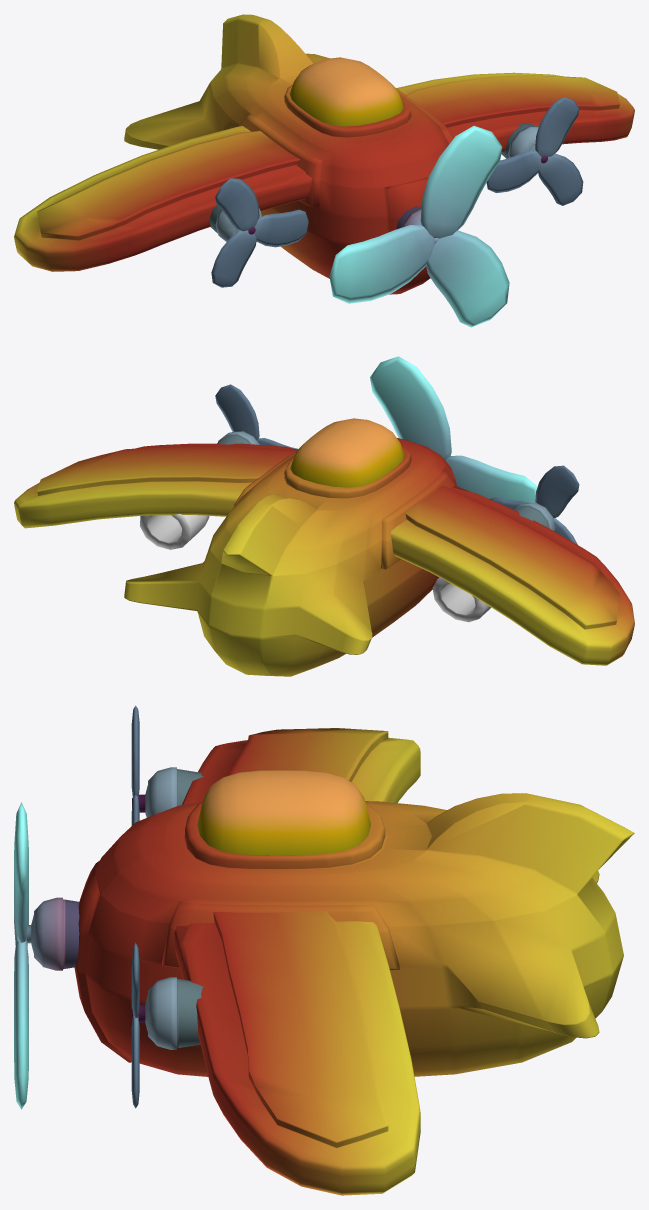
Rendered from самолет 4.fbx.
3 renders of one model, top to bottom at view 1: azimuth 30°, elevation 25°; view 2: azimuth 150°, elevation 25°; view 3: azimuth 270°, elevation 25°, orthographic. The views are drawn at different scales.
Parts seen in each view (by area): view 1: Cube.014, Cube.015, Cube.012, Cube.011, Cube.001, Cube.013, Cylinder.012; view 2: Cube.015, Cube.014, Cube.012, Cube.011, Cylinder.010, Cube.001, Cube.013, Cylinder.012; view 3: Cube.015, Cube.014, Cube.011, Cylinder.012, Cube.012, Cylinder.011, Cube.013, Cube.001.
Boxes of the visible parts, x1=… form: Cube.014: x1=14, y1=72, x2=634, y2=271; Cube.015: x1=124, y1=14, x2=453, y2=294; Cube.012: x1=329, y1=126, x2=509, y2=327; Cube.011: x1=289, y1=57, x2=403, y2=126; Cube.001: x1=211, y1=178, x2=308, y2=287; Cube.013: x1=486, y1=97, x2=583, y2=205; Cylinder.012: x1=209, y1=123, x2=547, y2=241; Cube.015: x1=124, y1=438, x2=456, y2=676; Cube.014: x1=14, y1=443, x2=634, y2=665; Cube.012: x1=370, y1=356, x2=537, y2=502; Cube.011: x1=290, y1=418, x2=404, y2=487; Cylinder.010: x1=140, y1=513, x2=491, y2=622; Cube.001: x1=490, y1=465, x2=579, y2=544; Cube.013: x1=215, y1=384, x2=297, y2=449; Cylinder.012: x1=217, y1=431, x2=555, y2=531; Cube.015: x1=74, y1=793, x2=634, y2=1076; Cube.014: x1=174, y1=728, x2=420, y2=1195; Cube.011: x1=197, y1=770, x2=370, y2=855; Cylinder.012: x1=132, y1=767, x2=203, y2=1049; Cube.012: x1=14, y1=802, x2=28, y2=1109; Cylinder.011: x1=26, y1=897, x2=79, y2=970; Cube.013: x1=131, y1=942, x2=139, y2=1108; Cube.001: x1=131, y1=705, x2=139, y2=825.
Size of the model in its own units: 642 by 205 by 391.
